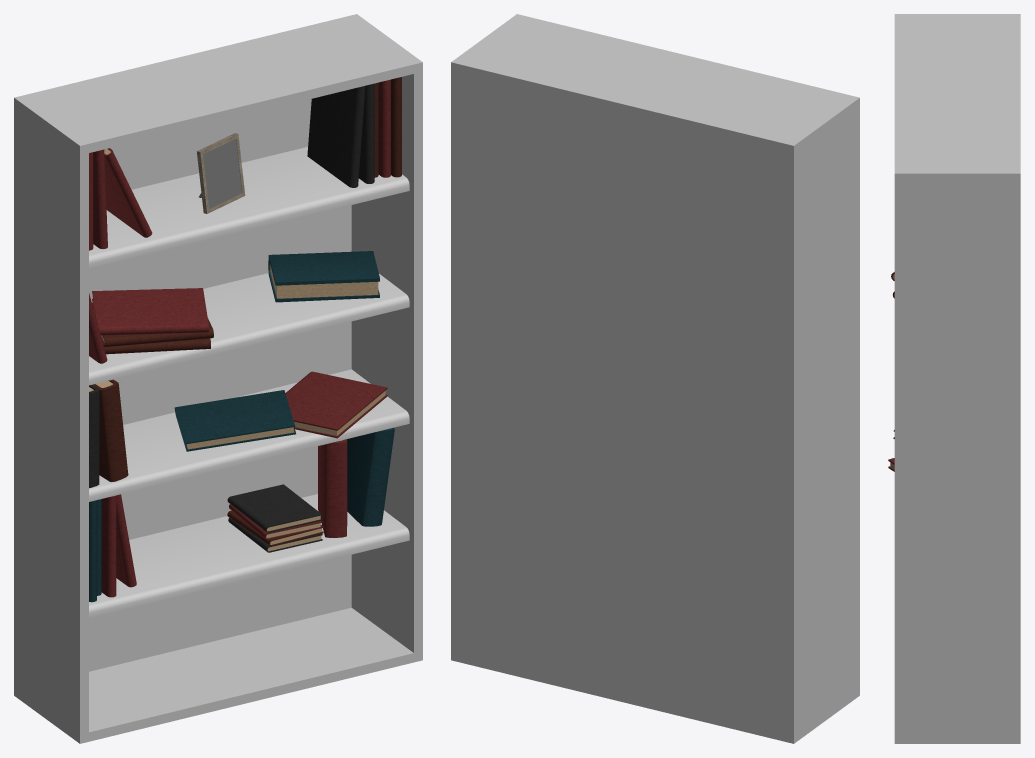
The picture shows the model from 3 angles, left to right: view 1: azimuth 30°, elevation 25°; view 2: azimuth 150°, elevation 25°; view 3: azimuth 270°, elevation 25°; orthographic projection. The views are drawn at different scales.
Visible parts, largest first — view 1: Shelf, Book.017, Book.008, Book.006, Book.016, Book.013, Book.019, Book.023, Book.018, Book.015, FrameGlass, Book.003 (+15 smaller); view 2: Shelf; view 3: Shelf.
Part boxes in pixels (x1,y1,x2,y2): Shelf: (14,14,422,743); Book.017: (174,390,295,451); Book.008: (268,251,379,302); Book.006: (92,288,208,335); Book.016: (285,371,387,438); Book.013: (307,85,365,187); Book.019: (347,427,394,526); Book.023: (227,484,321,532); Book.018: (318,439,347,537); Book.015: (93,379,128,481); FrameGlass: (203,139,241,208); Book.003: (104,148,152,237); Shelf: (451,14,859,743); Shelf: (894,14,1020,743).
Size of the model in its own units: 1.2 by 1.99 by 0.4189.
